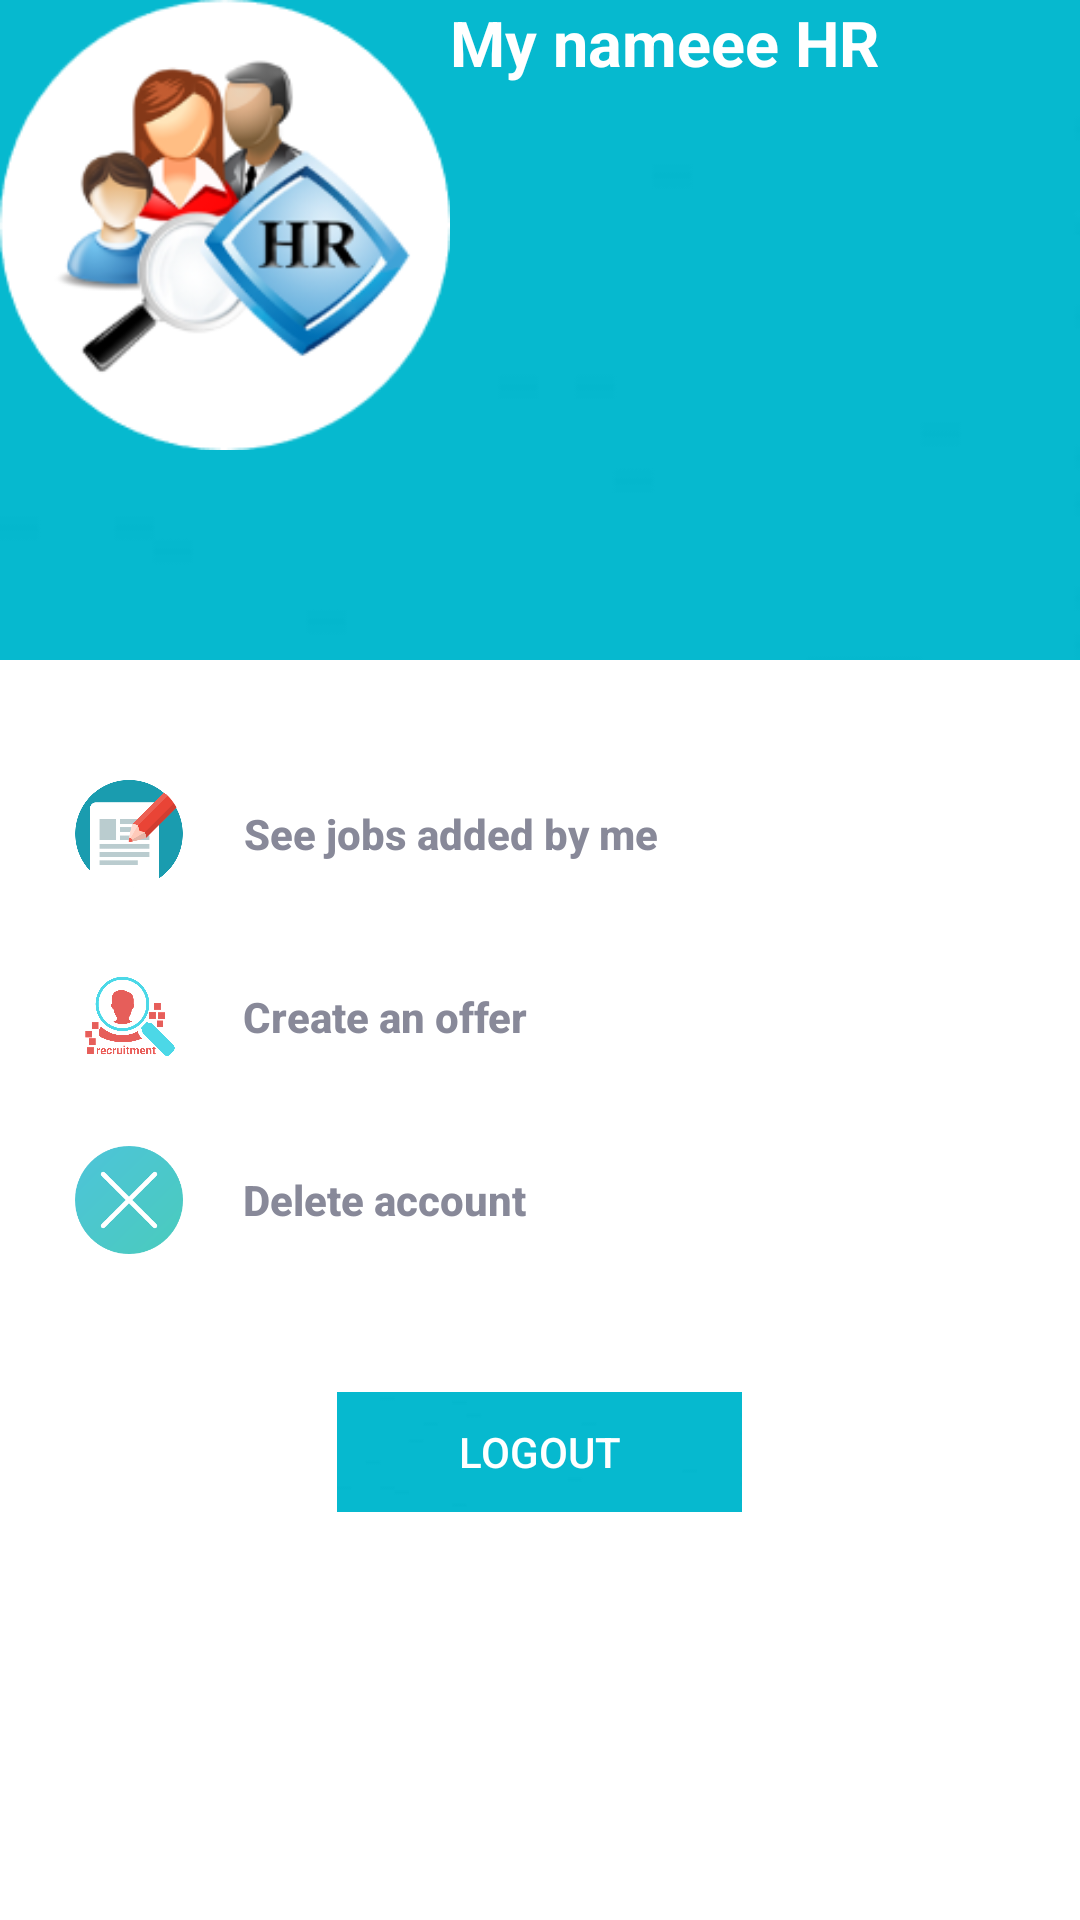

Icon bounding boxes for this 1080x1920 phone screenshot, format (x1, y1, x2, y2):
postuler: (75, 780, 183, 878)
